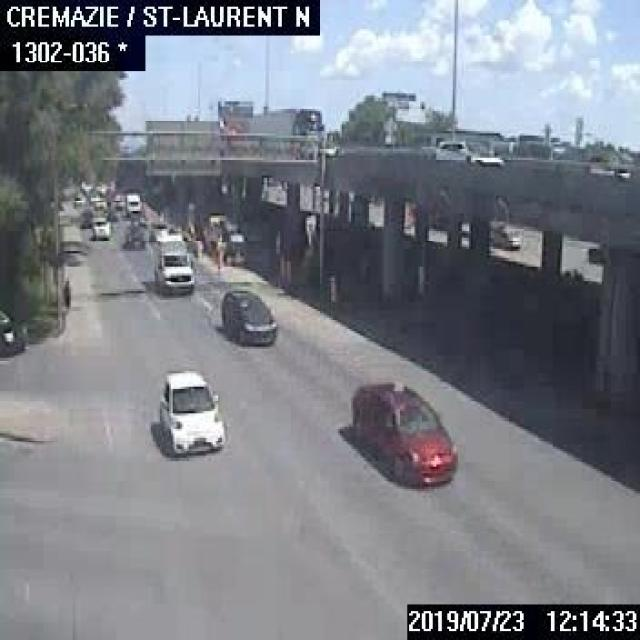pedestrian: (60, 275, 73, 309)
vehicle: (349, 376, 458, 484), (153, 366, 225, 456), (216, 284, 276, 342), (150, 237, 192, 292), (431, 136, 507, 166), (0, 300, 31, 358), (491, 222, 524, 247), (122, 224, 145, 246), (90, 216, 110, 240), (123, 191, 143, 215), (146, 220, 167, 238), (78, 206, 93, 226), (110, 192, 122, 208), (92, 195, 105, 208), (72, 194, 83, 206)
